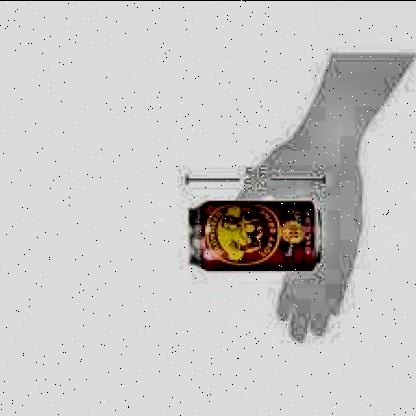Can: (184, 196, 328, 274)
